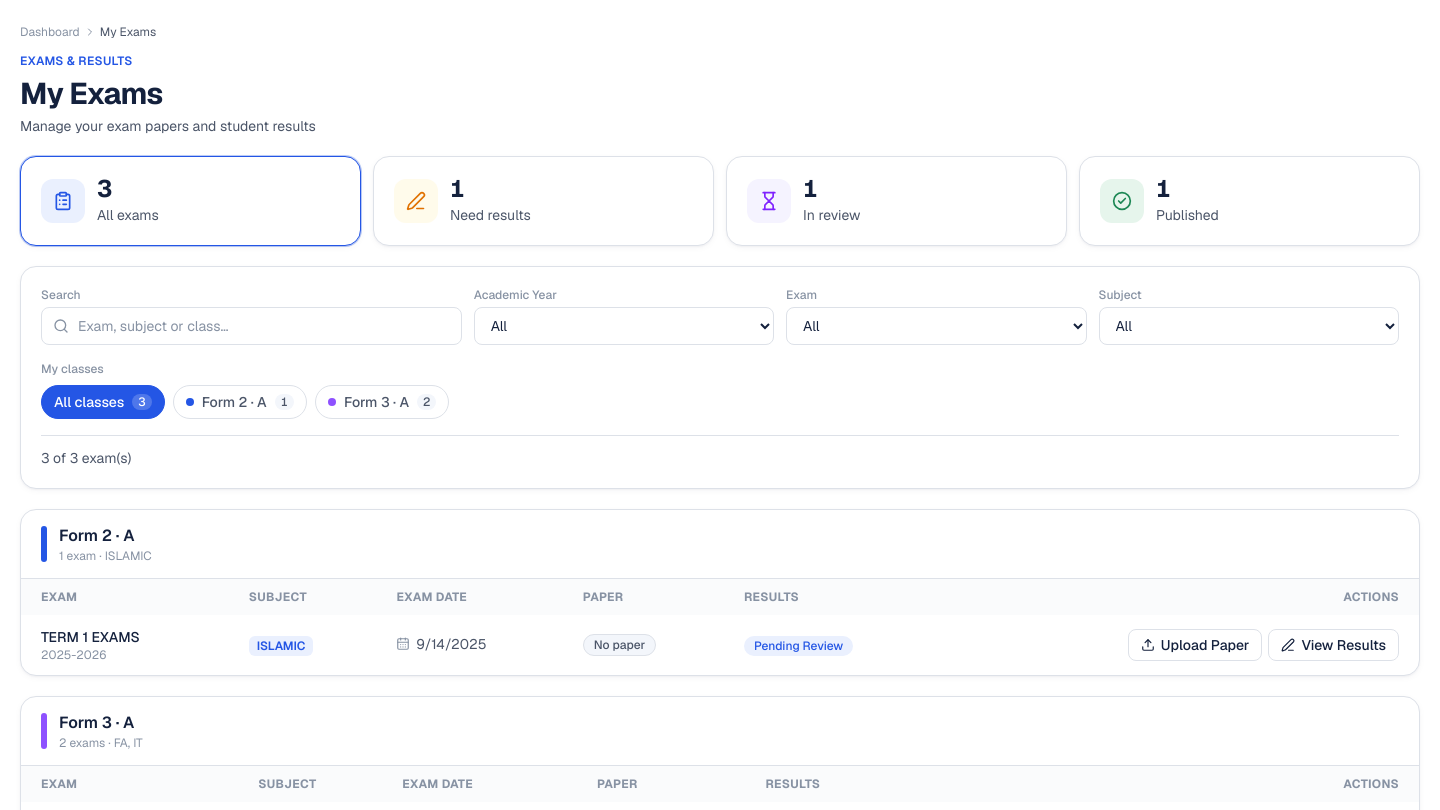
it: My Exams — grouped by class › filters to one class with the class chips
Click the button "Form 2 · A 1" at [240, 402], box [173,385,307,419]
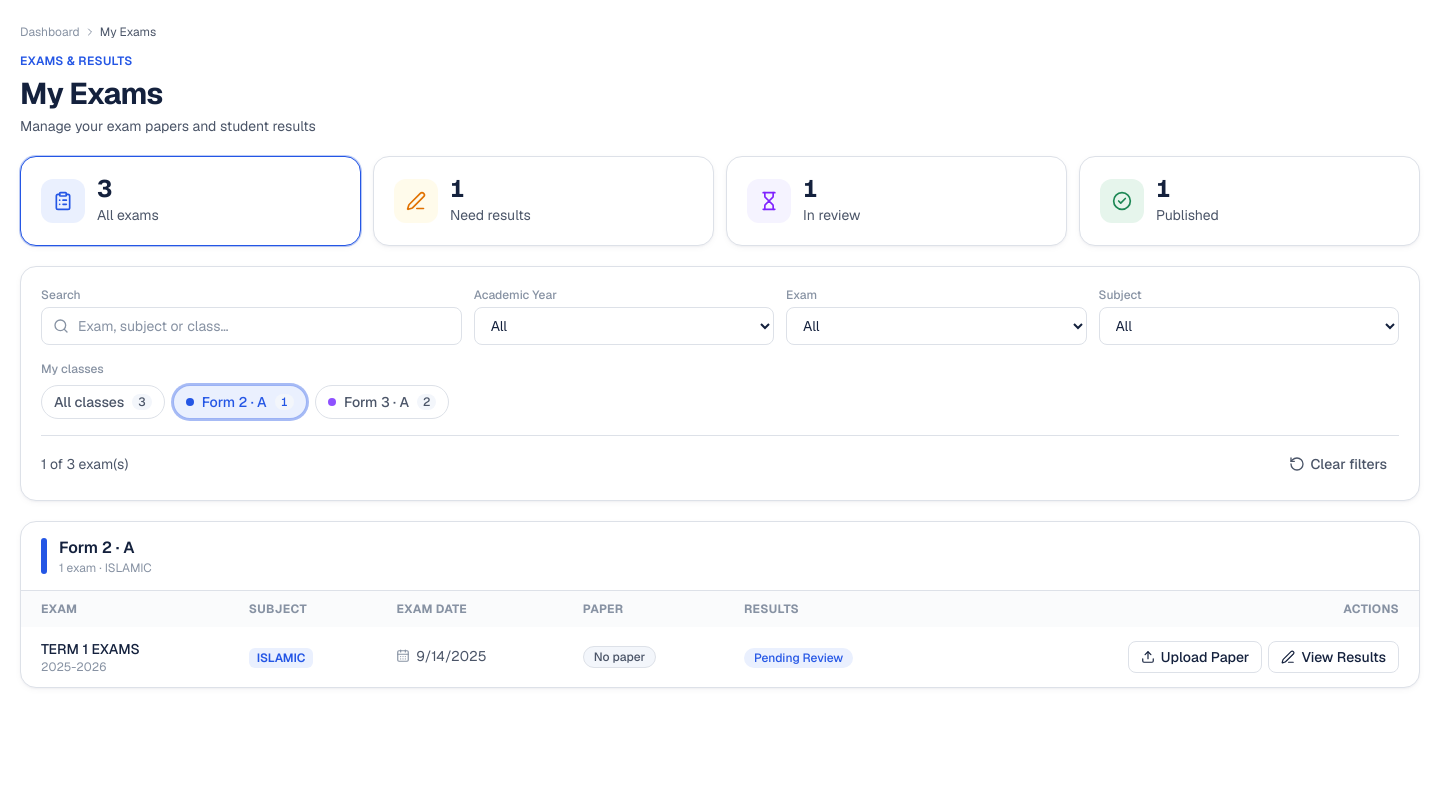
Expected: the element "Form 2 · A" is shown, [20,521,1420,688]
Now the text "1 of 3 exam(s)" is shown, box [41,454,128,474]
